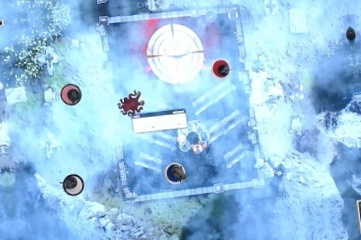blue: (161, 159, 187, 185)
giant_red_octopus: (114, 89, 147, 118)
pink_green: (59, 81, 85, 107)
red: (208, 56, 234, 82)
white: (60, 172, 85, 197)
